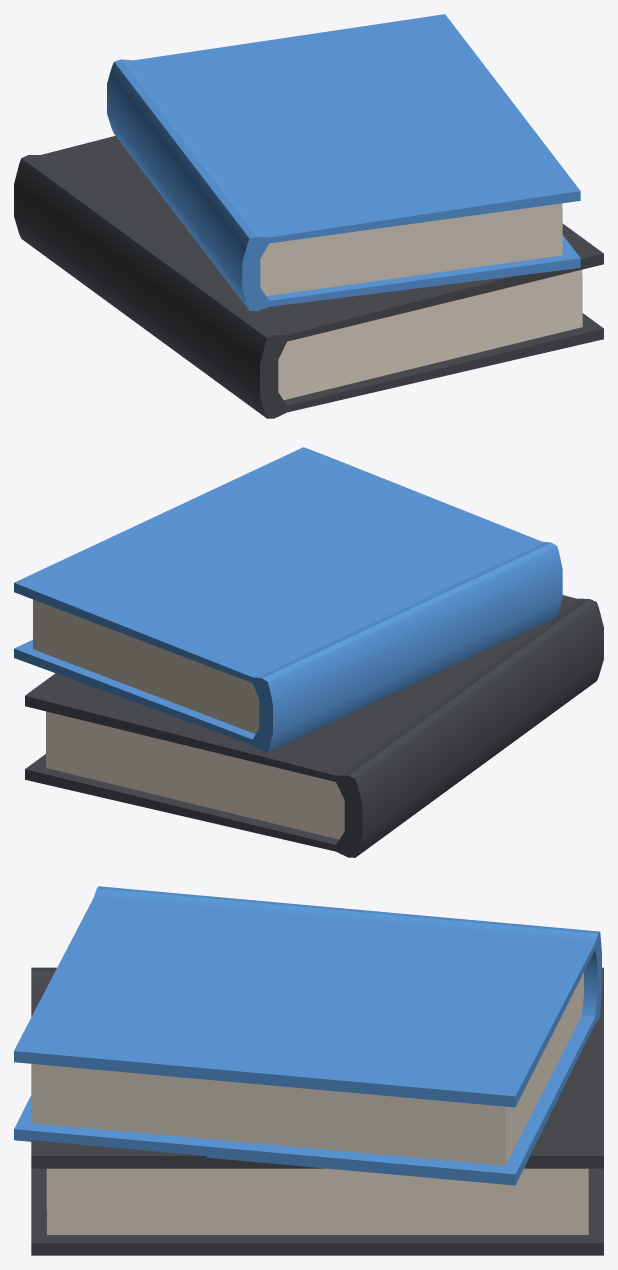
Rendered from BookPile4.fbx.
The picture shows the model from 3 angles, top to bottom: view 1: azimuth 30°, elevation 25°; view 2: azimuth 150°, elevation 25°; view 3: azimuth 270°, elevation 25°; orthographic projection. The views are drawn at different scales.
Parts seen in each view (by area): view 1: polySurface96; view 2: polySurface96; view 3: polySurface96.
Boxes of the visible parts, x1,y1,x2,y2 form: polySurface96: (14, 14, 603, 418); polySurface96: (14, 447, 603, 857); polySurface96: (14, 886, 603, 1255).
Size of the model in its own units: 0.5165 by 0.202 by 0.5767.
